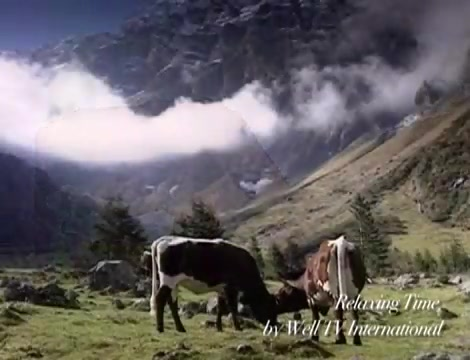cow: (150, 237, 283, 339)
